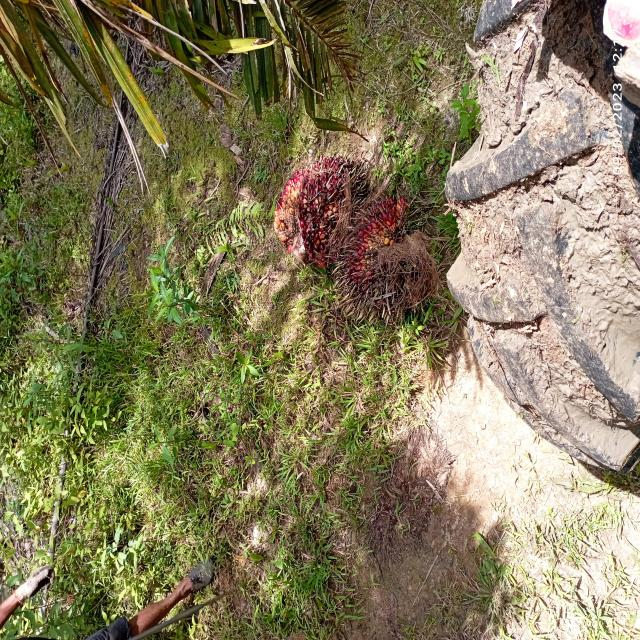fraksi 00: (332, 195, 437, 331)
fraksi 1: (249, 128, 385, 288)
